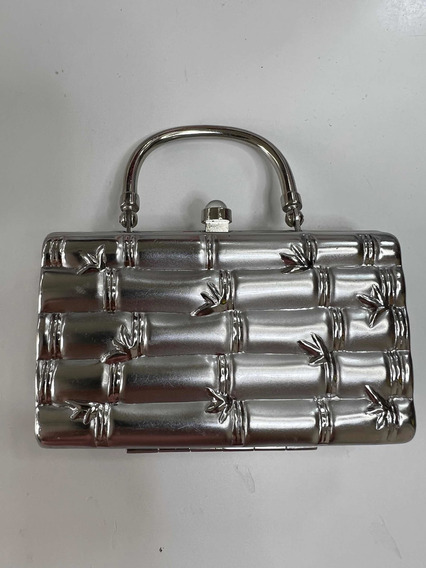cartera: (34, 124, 416, 452)
